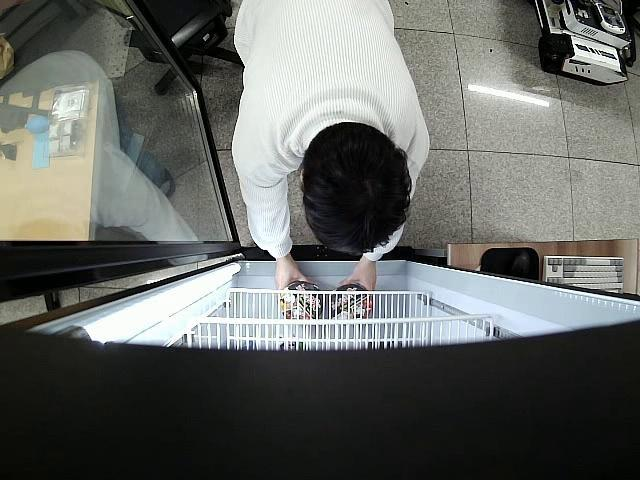07_buldak_L: (279, 285, 322, 326), (331, 286, 374, 319)
